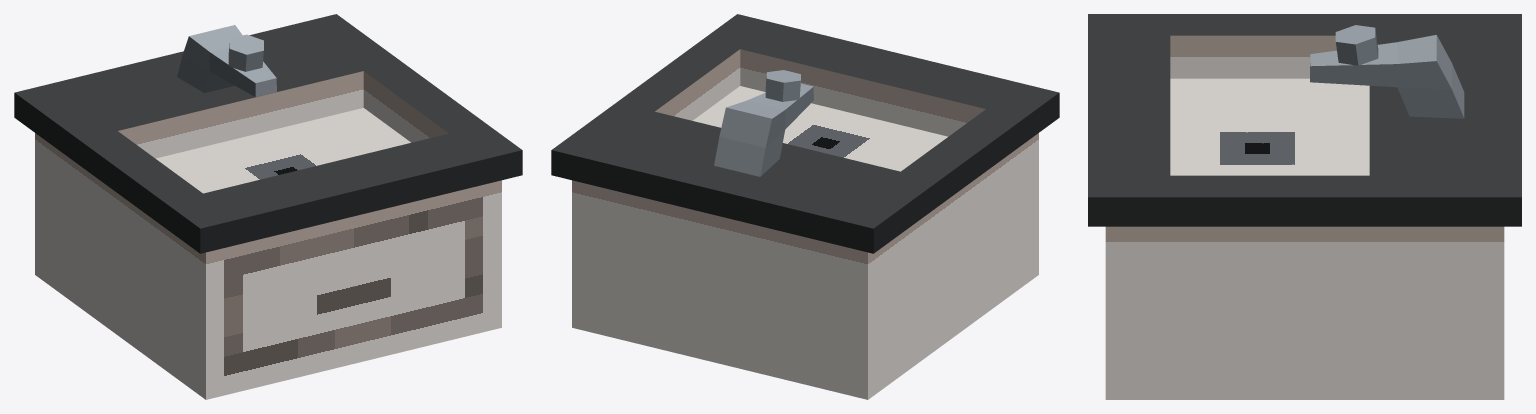
Rendered from sink.gltf.
3 renders of one model, left to right at view 1: azimuth 30°, elevation 25°; view 2: azimuth 150°, elevation 25°; view 3: azimuth 270°, elevation 25°, orthographic. The views are drawn at different scales.
Visible parts, largest first — view 1: cylinder; view 2: cylinder; view 3: cylinder.
Boxes of the visible parts, x1=… form: cylinder: x1=14, y1=14, x2=522, y2=399; cylinder: x1=551, y1=14, x2=1059, y2=399; cylinder: x1=1088, y1=14, x2=1521, y2=399.
Size of the model in its own units: 1.09 by 0.7837 by 1.09.
Materials: 1 (1 with a texture image).
